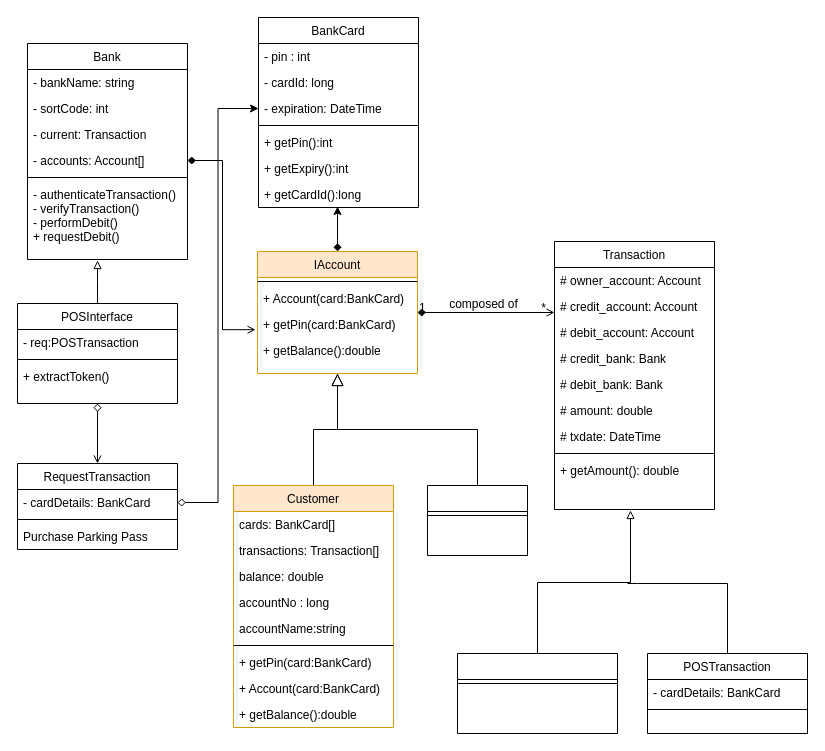
Some shapes in this 825 by 751 pixel diagram are drawn without their labels. Here are the shapes that lost their labels. From the top down, the centre of each, then its label:
At point 477,520: "Merchant".
At point 537,693: "Receipt".
